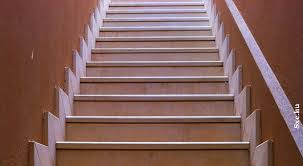escada: (57, 4, 244, 166)
